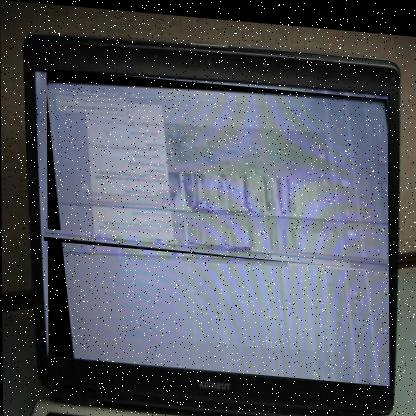fade: (45, 68, 389, 380)
lines: (230, 82, 378, 374), (42, 228, 386, 265)
